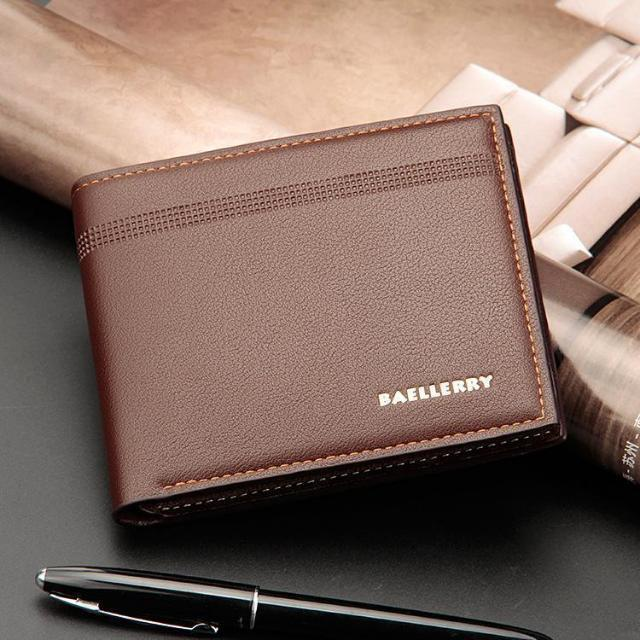wallet: (63, 100, 574, 530)
